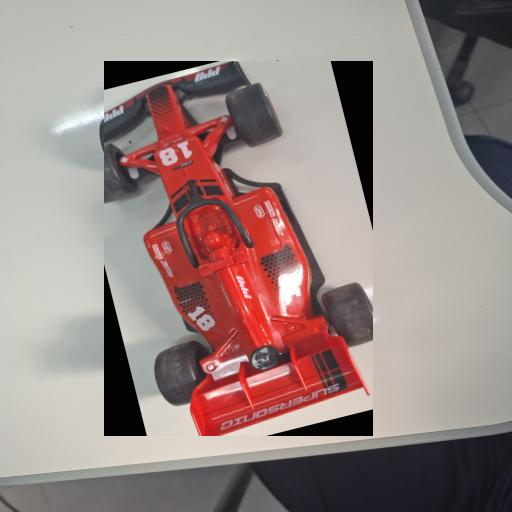carro: (104, 61, 373, 436)
